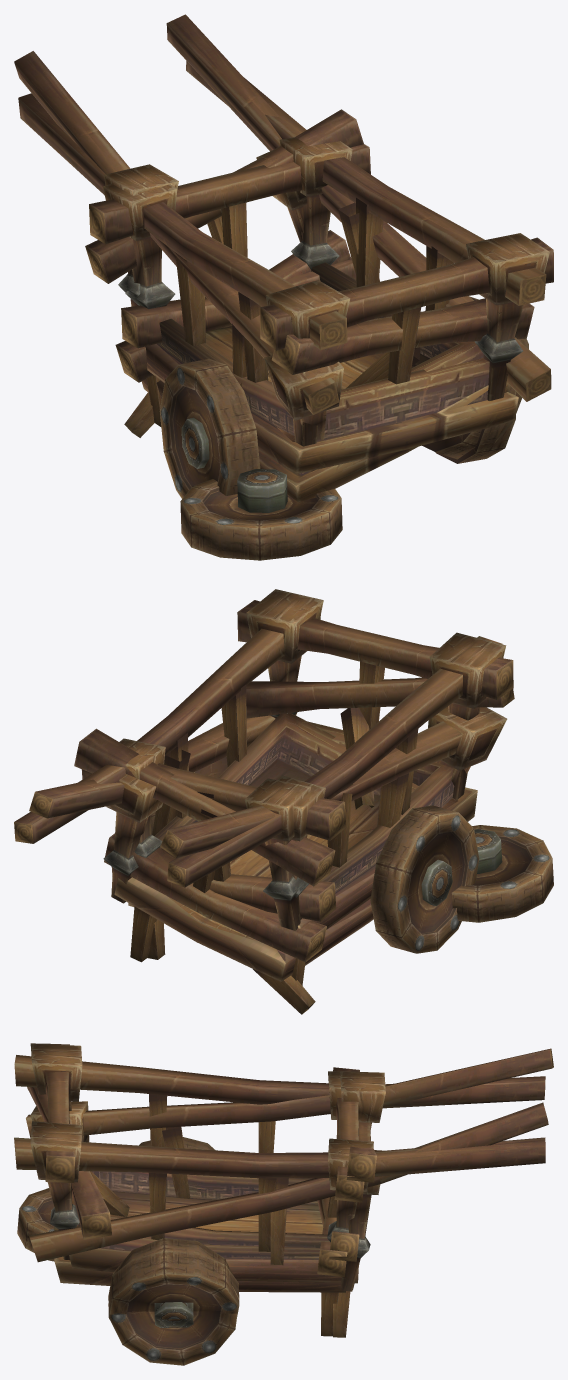
Rendered from muche.FBX.
3 views of the same model, one above another, from view 1: azimuth 30°, elevation 25°; view 2: azimuth 150°, elevation 25°; view 3: azimuth 270°, elevation 25° (orthographic). The views are drawn at different scales.
Visible parts, largest first — view 1: ca_thing-misc203, ca_thing-misc205; view 2: ca_thing-misc203, ca_thing-misc205; view 3: ca_thing-misc203, ca_thing-misc205.
Part boxes in pixels (x1,y1,x2,y2): ca_thing-misc203: [18, 61, 553, 498]; ca_thing-misc205: [14, 14, 551, 560]; ca_thing-misc203: [14, 589, 513, 985]; ca_thing-misc205: [29, 677, 553, 1014]; ca_thing-misc203: [14, 1043, 545, 1365]; ca_thing-misc205: [17, 1048, 553, 1337].
Size of the model in its own units: 4.94 by 3.65 by 7.55.
